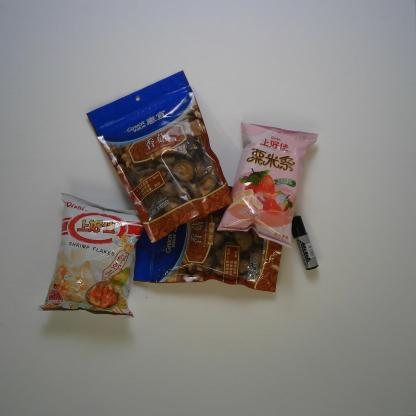Dried Food: (85, 69, 234, 245), (133, 185, 282, 293)
Puffed Food: (37, 192, 144, 320), (216, 121, 320, 250)
Stationery: (291, 214, 319, 271)
